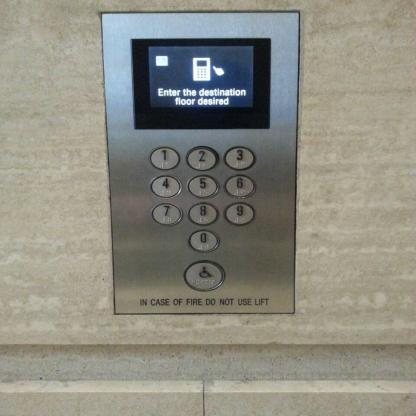0: (187, 229, 220, 252)
1: (150, 147, 180, 170)
2: (185, 146, 218, 171)
3: (223, 146, 256, 170)
4: (149, 175, 182, 199)
5: (186, 174, 218, 199)
6: (223, 174, 257, 199)
7: (150, 202, 181, 225)
8: (186, 202, 219, 225)
9: (222, 202, 256, 226)
CH: (182, 260, 226, 292)
